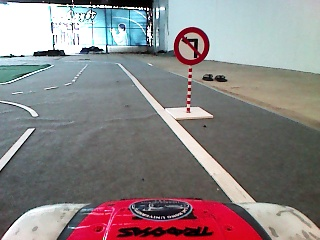ban_left: (174, 27, 210, 66)
